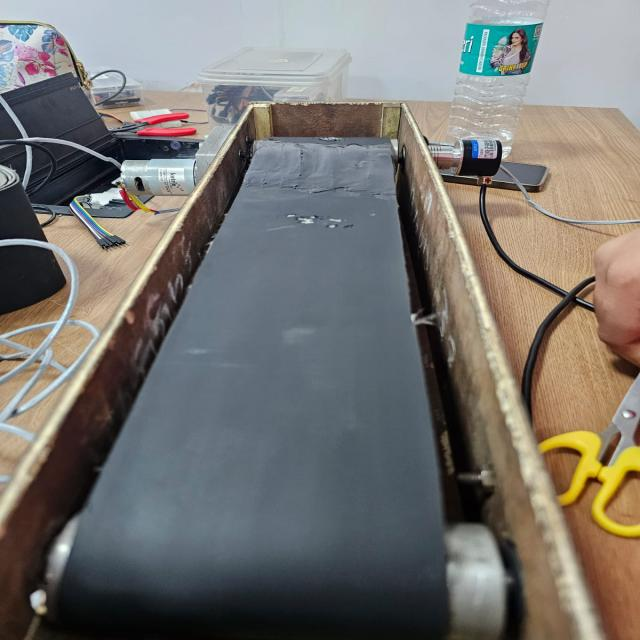scratch: (266, 208, 362, 232), (362, 209, 379, 222)
